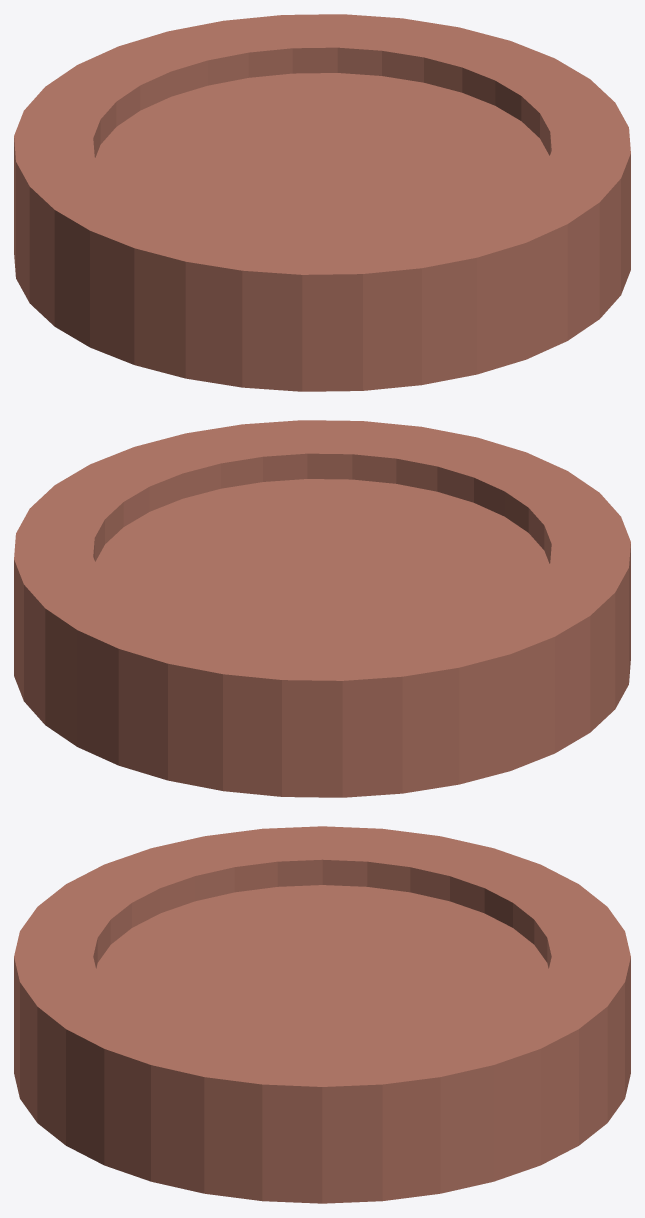
The model's file is assMoney.glb.
3 views of the same model, one above another, from view 1: azimuth 30°, elevation 25°; view 2: azimuth 150°, elevation 25°; view 3: azimuth 270°, elevation 25° (orthographic).
Parts seen in each view (by area): view 1: Cylinder; view 2: Cylinder; view 3: Cylinder.
Part boxes in pixels (x1,y1,x2,y2): Cylinder: (14,14,630,391); Cylinder: (14,420,630,797); Cylinder: (14,826,630,1203).
Bounding box in the file's own units: 2 × 0.4172 × 2.
